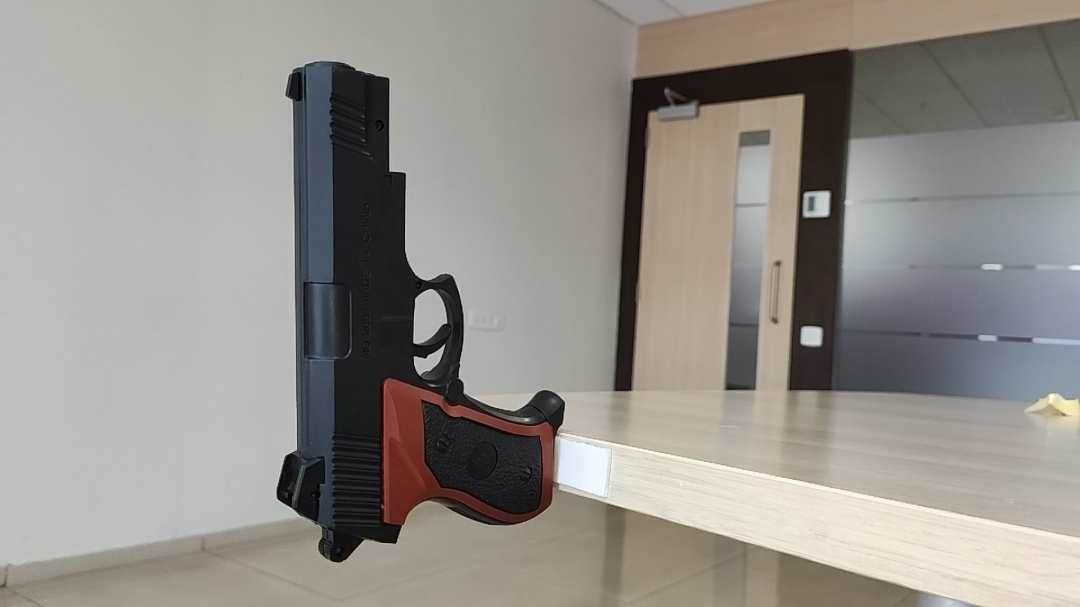gun: (412, 232, 439, 275)
